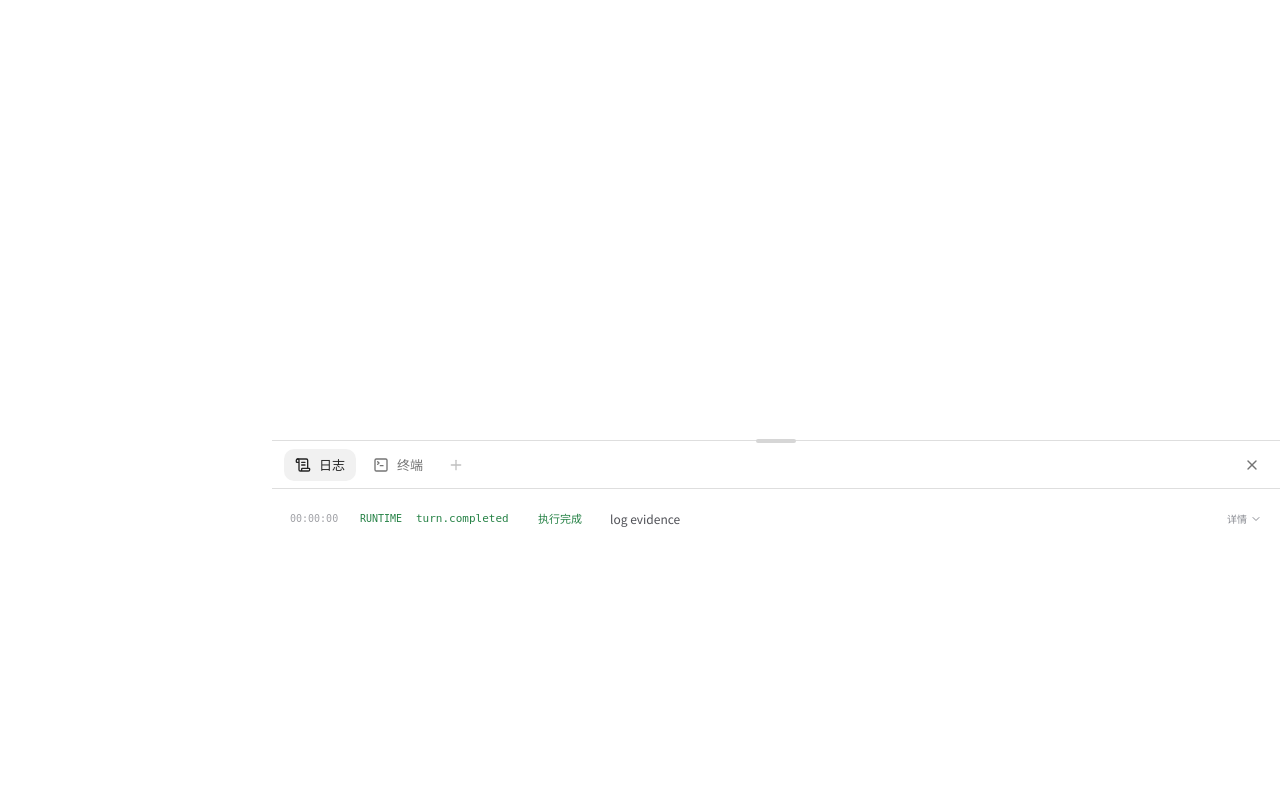
it: DetailDrawer › only exposes Codex-style logs and terminal tabs
Expected: the text "log evidence" is shown, [610,510,680,527]
What coordinates should you click on to do the following:
click the tab "终端"
I would click on:
 (398, 464)
Its box is [362,448,434,480].
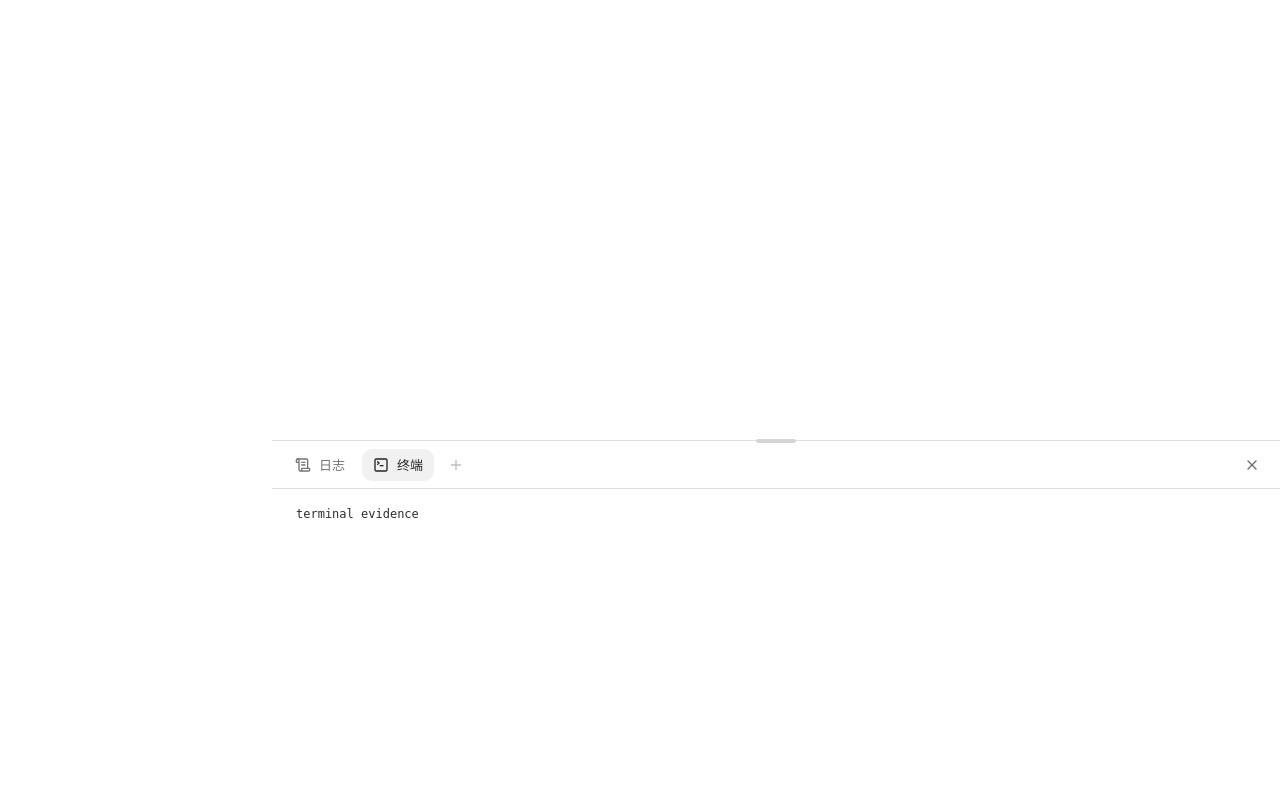
Expected: the text "terminal evidence" is shown, [272,489,1279,799]
